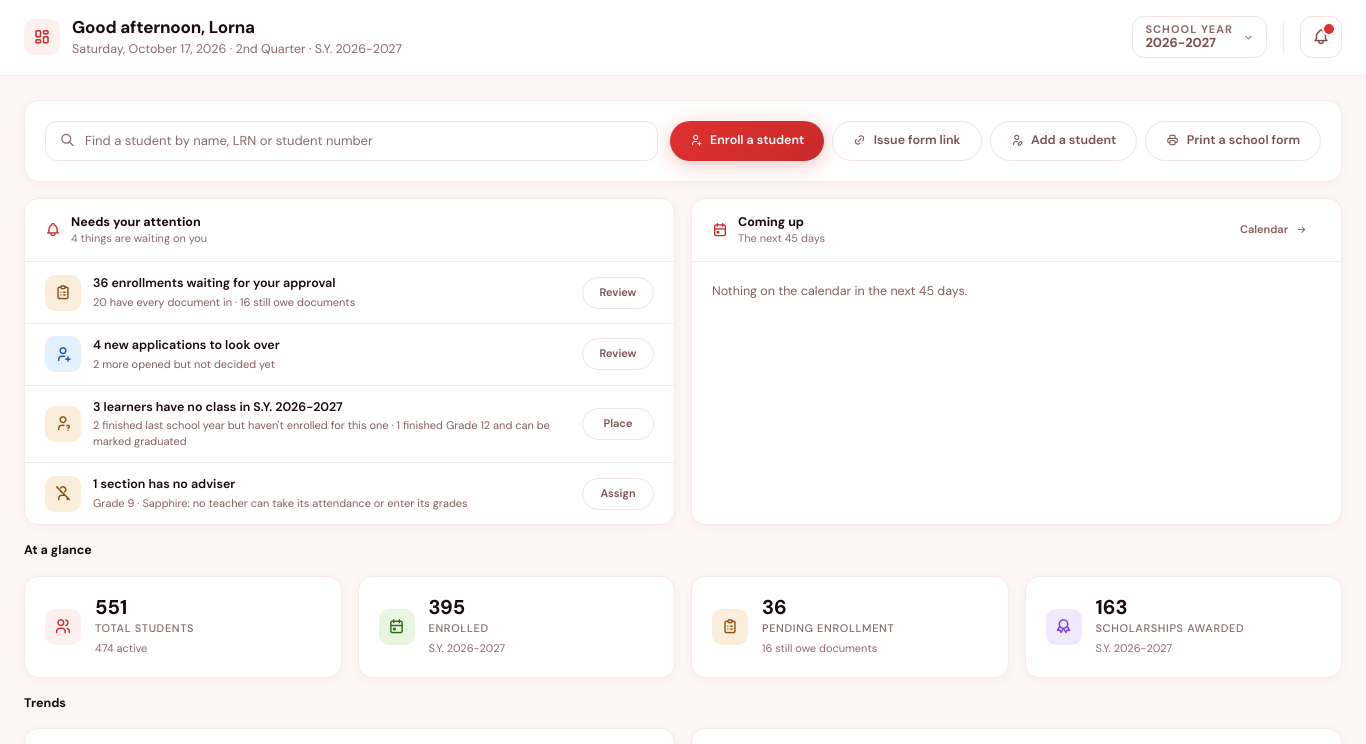
Scenario: RegistrarHome — needs your attention › puts the same rows in the bell
What coordinates should you click on to do the following:
click the button named "Notifications, 4 need your attention"
I would click on:
 (1321, 37)
Its box is top-left (1300, 16), bottom-right (1342, 58).
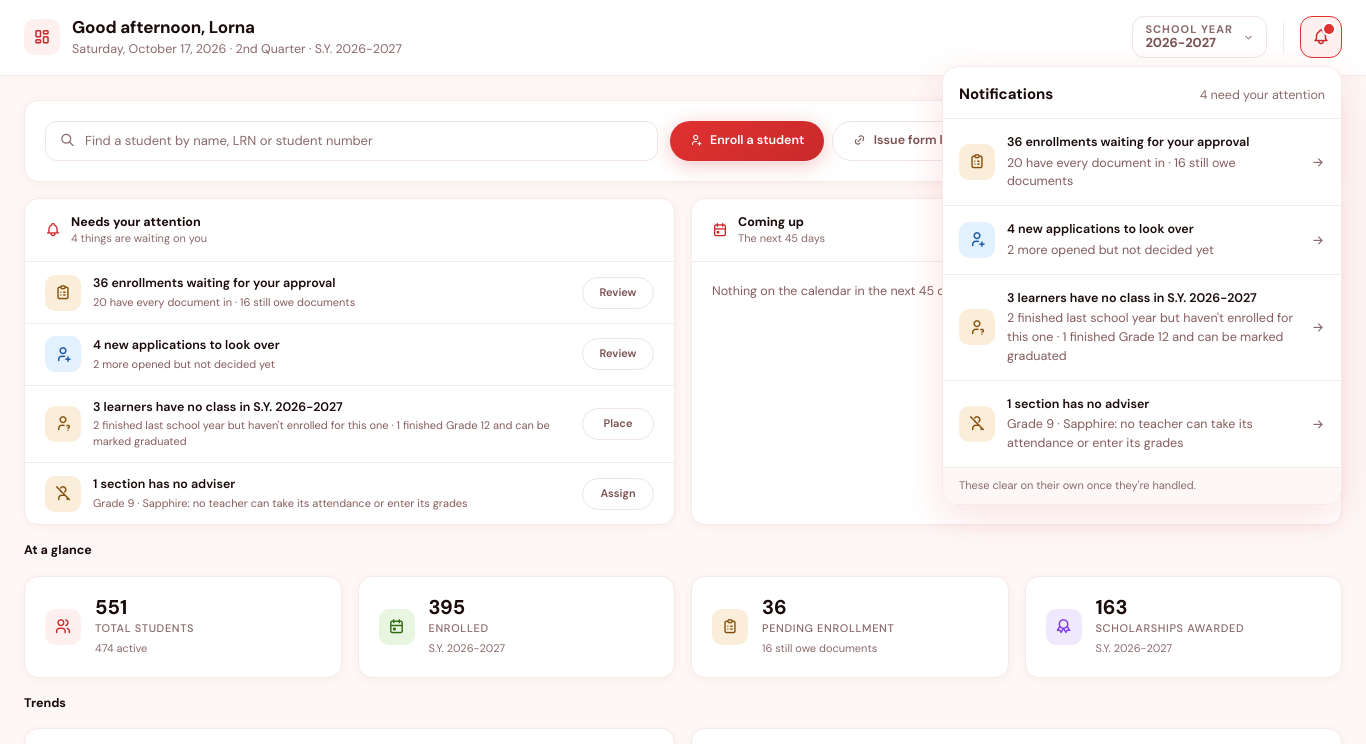
Check: the link "36 enrollments waiting for your approval" is shown, box top-left (943, 119), bottom-right (1341, 205)
Check: the link "1 section has no adviser" is shown, box top-left (943, 380), bottom-right (1341, 467)
